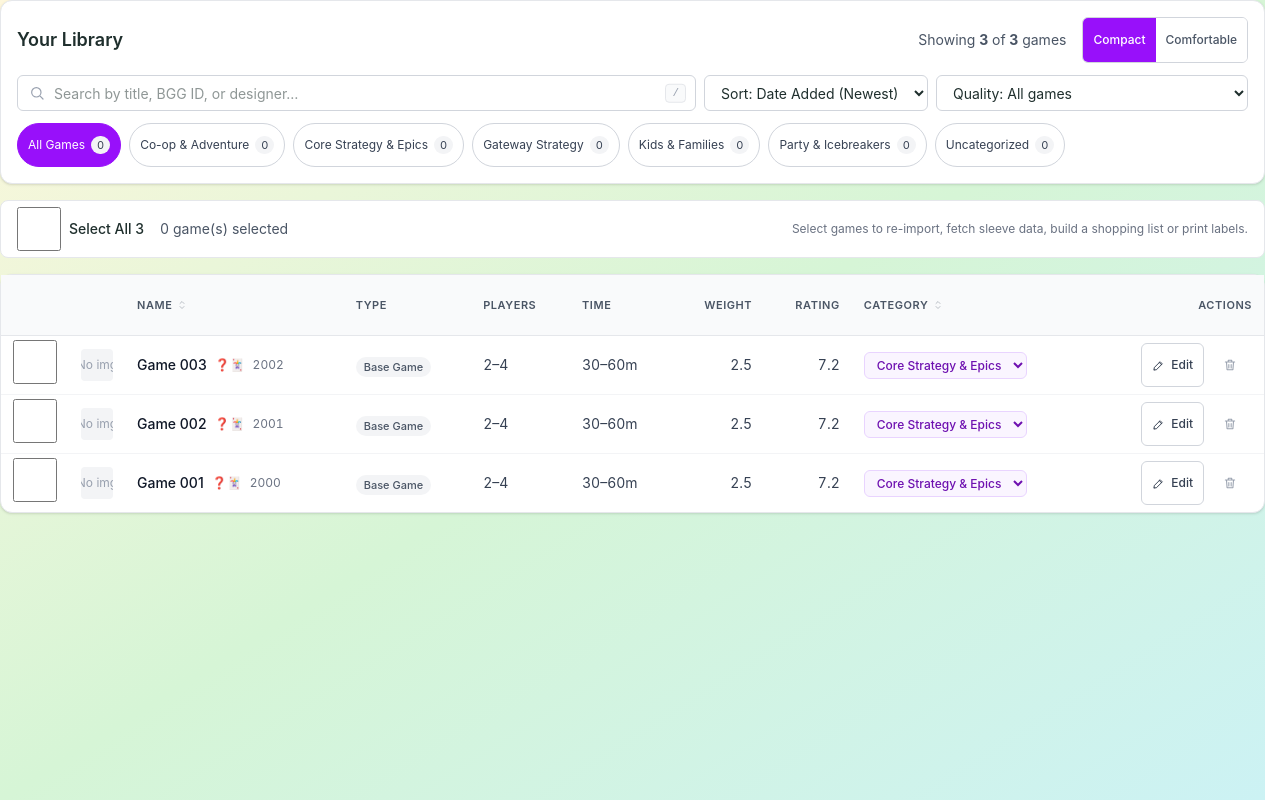
Test: ManageLibraryTab desktop features › empty state offers to clear active filters
Type "zzz-nothing" into the field named "Search library". click: (356, 93)
box: [17,75,696,111]
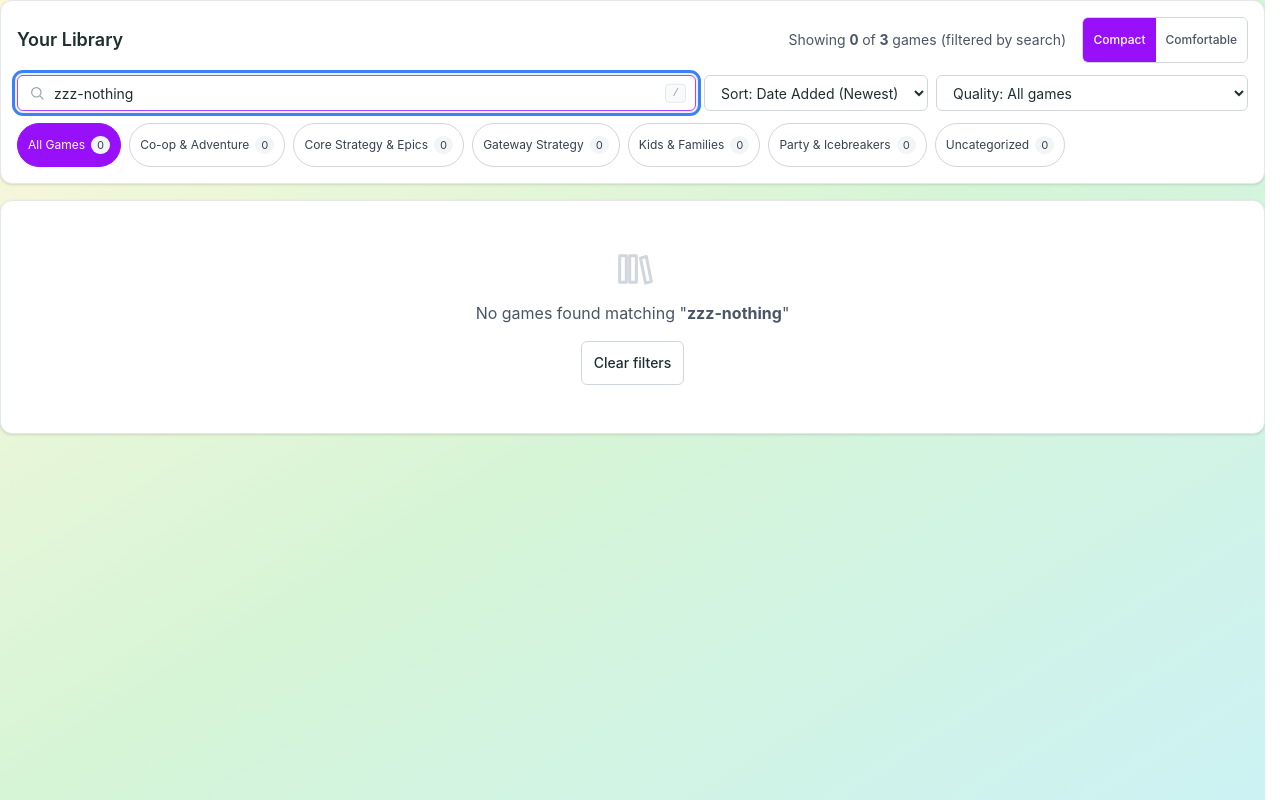
Click the button "Clear filters". click: click(633, 363)
box: [581,341,684,385]
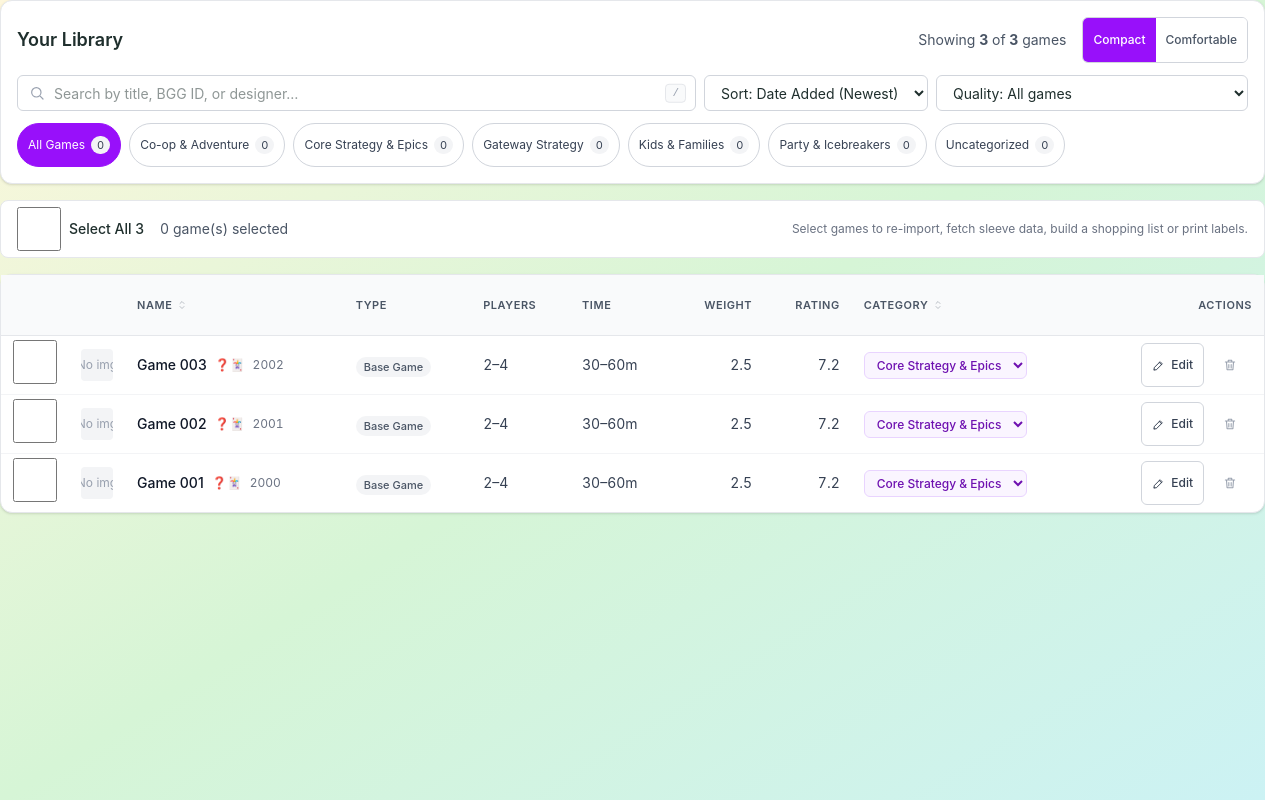
Expected: the field named "Search library" is empty, [17,75,696,111]
